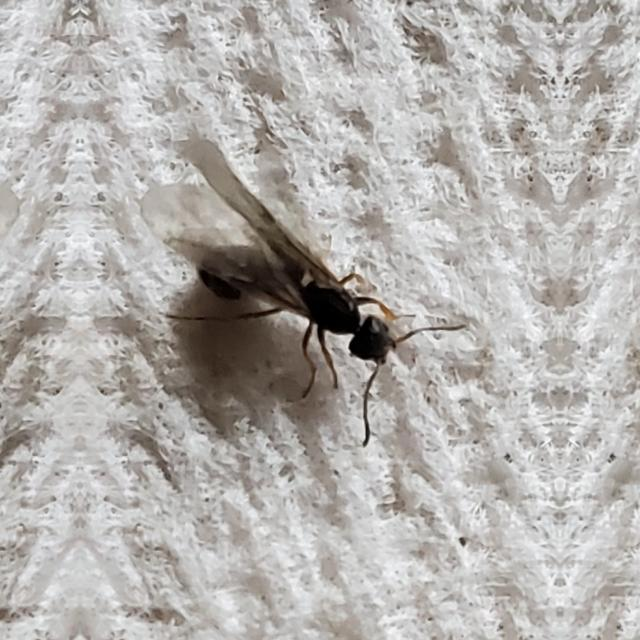Tapinoma: (130, 90, 446, 448)
